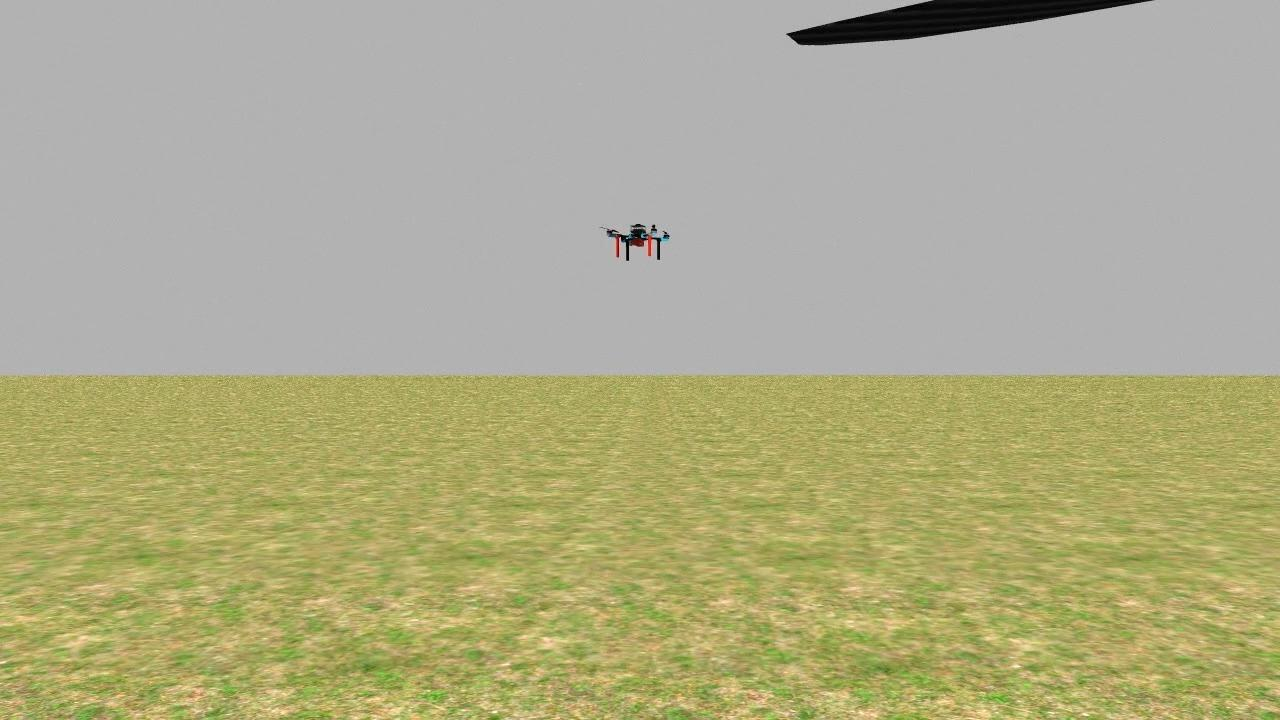UAV: (597, 219, 680, 270)
